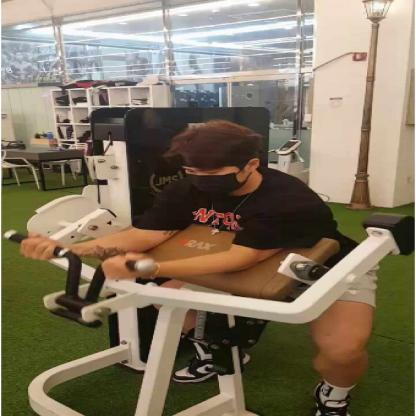arm curl machine: (0, 105, 416, 416)
